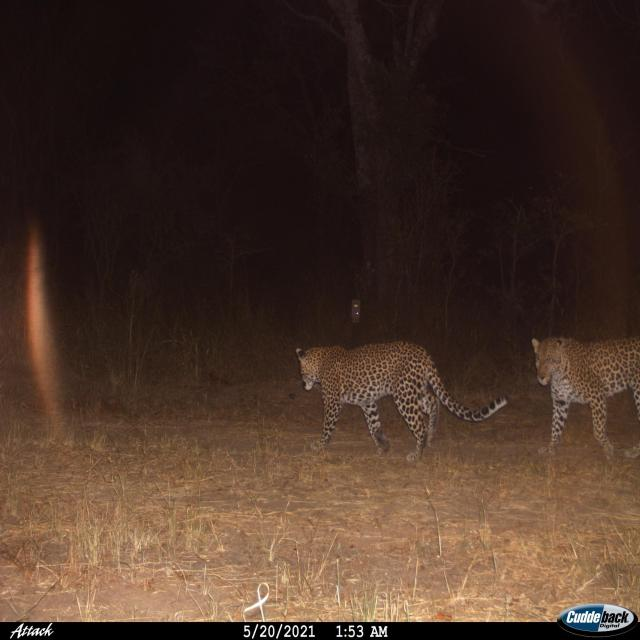Leopard: (288, 339, 506, 464)
